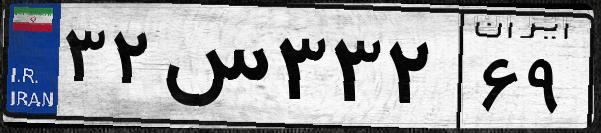2: (385, 28, 445, 110), (110, 28, 158, 98)
3: (270, 28, 330, 110), (330, 28, 385, 110), (57, 26, 110, 100)
6: (475, 38, 525, 113)
9: (525, 38, 570, 115)
س: (158, 20, 270, 120)
